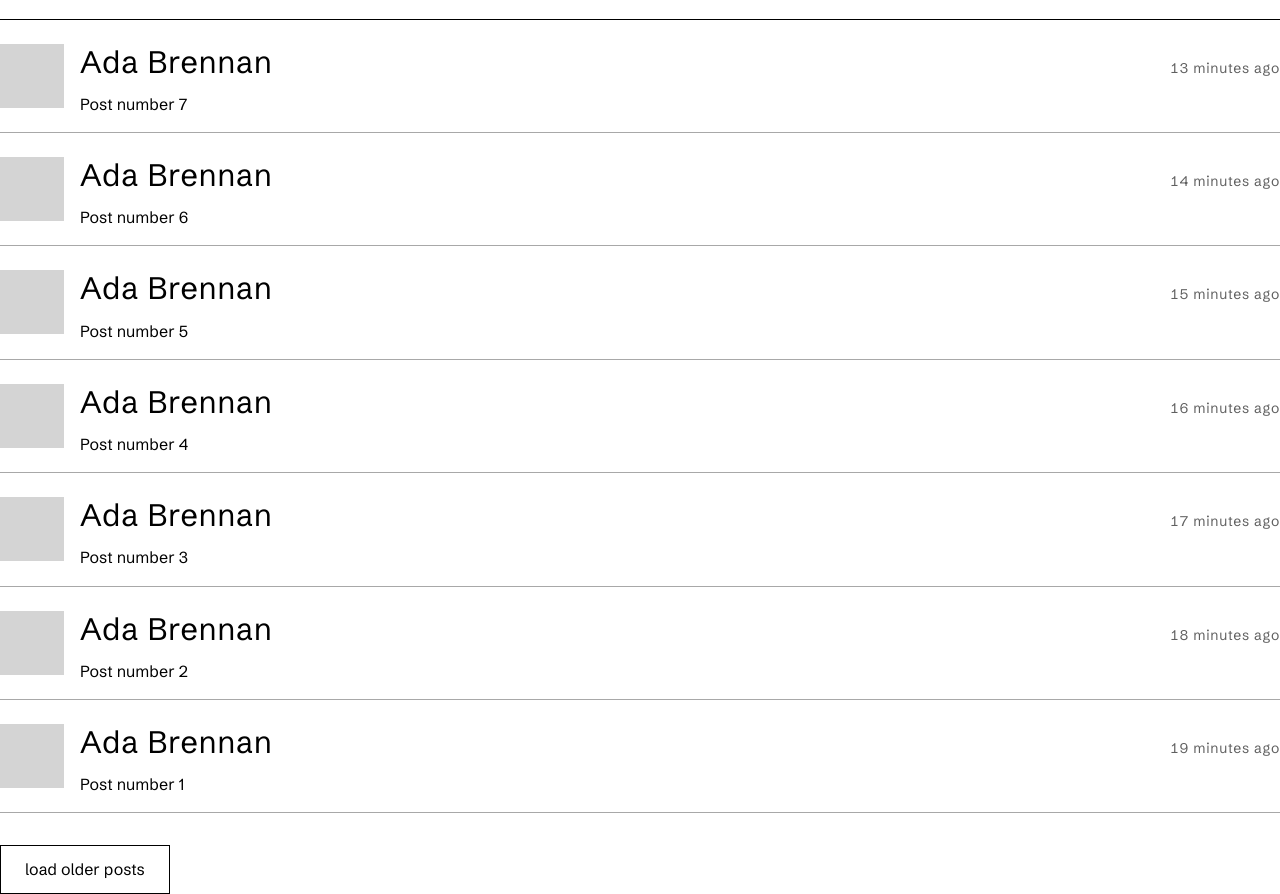
Test case: Wall › F-70: "load older posts" fetches the next page with the cursor and appends it
(page scrolled)
Click the button "load older posts". click: (85, 870)
box: left=0, top=845, right=170, bottom=893
(page scrolled)
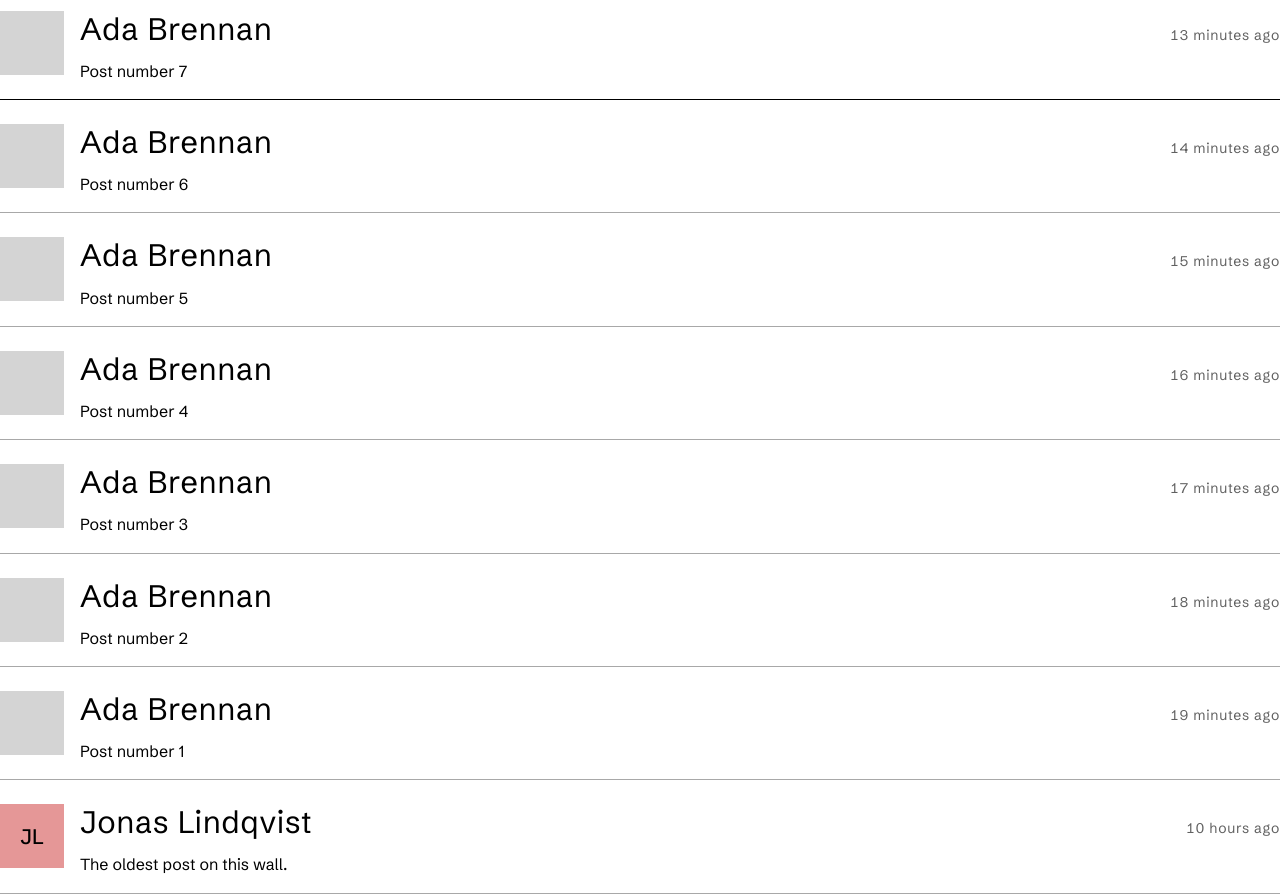
Expected: the text "The oldest post on this wall." is shown, left=80, top=854, right=287, bottom=877
Expected: the element that starts with "Jonas Lindqvist" shows "The oldest post on this wall.", left=80, top=854, right=287, bottom=874
Expected: the button "load older posts" is gone
